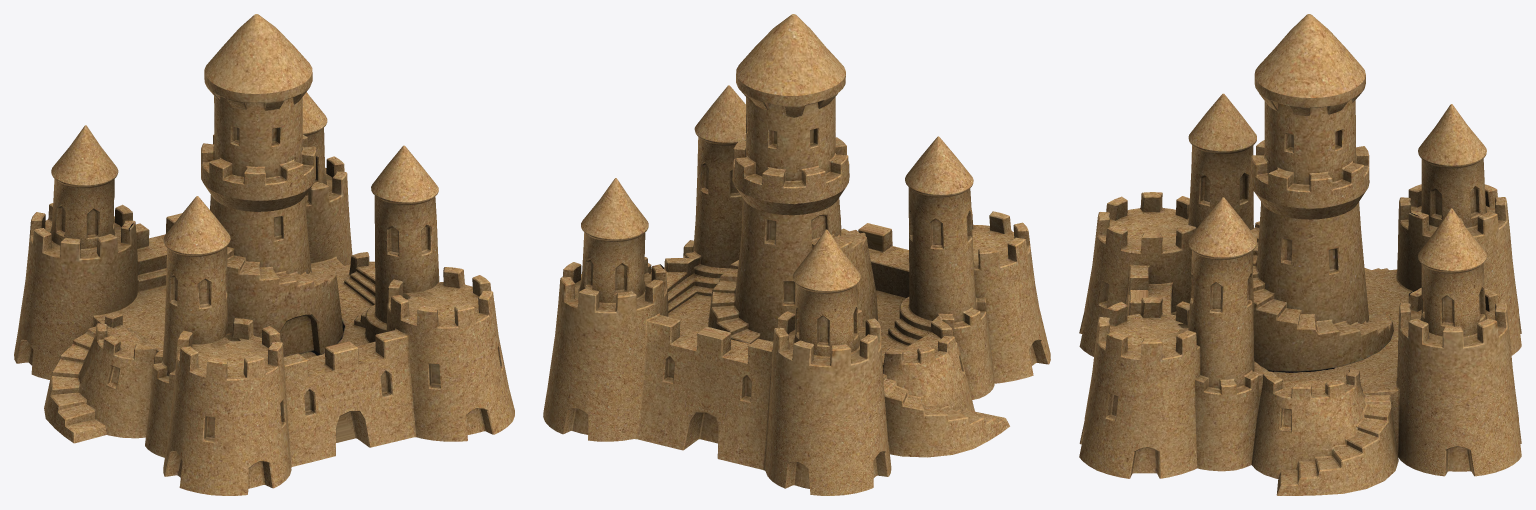
Rendered from sandcastle.glb.
3 views of the same model, side by side, from view 1: azimuth 30°, elevation 25°; view 2: azimuth 150°, elevation 25°; view 3: azimuth 270°, elevation 25° (orthographic). The views are drawn at different scales.
Visible parts, largest first — view 1: Cylinder.001_Material.001_0; view 2: Cylinder.001_Material.001_0; view 3: Cylinder.001_Material.001_0.
Boxes of the visible parts, bbox=[...] form: Cylinder.001_Material.001_0: bbox=[14, 14, 514, 495]; Cylinder.001_Material.001_0: bbox=[543, 14, 1050, 495]; Cylinder.001_Material.001_0: bbox=[1079, 14, 1521, 495].
Bounding box in the file's own units: 9.07 × 7.95 × 8.42.
Materials: 1 (1 with a texture image).
